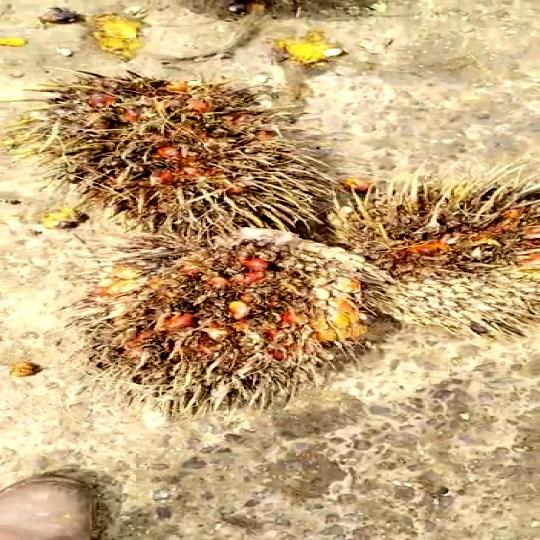terlalu masak: (86, 216, 394, 390), (0, 68, 318, 231)
